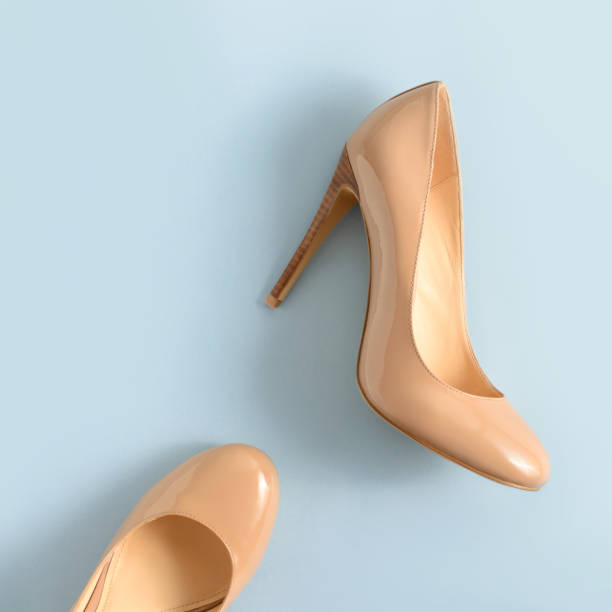Footwear: (267, 74, 558, 495)
